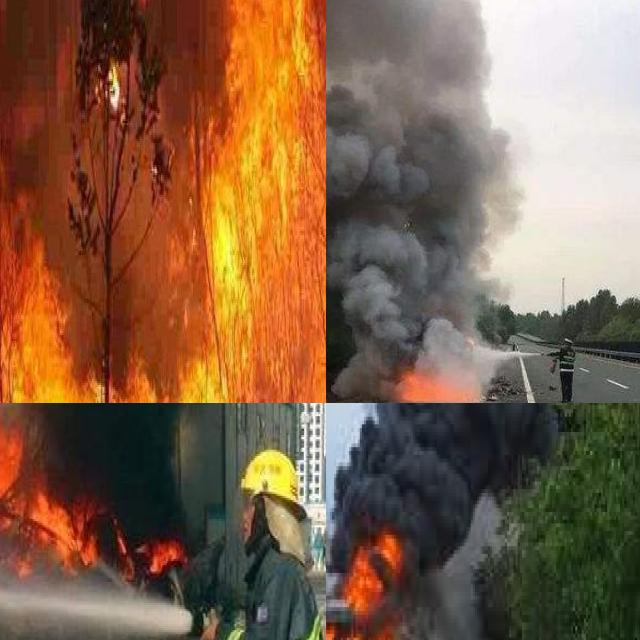fire: (0, 0, 326, 403), (0, 403, 189, 582), (326, 531, 440, 640), (400, 357, 504, 403)
smoke: (326, 0, 517, 329), (326, 403, 640, 565), (34, 403, 194, 563), (328, 333, 398, 400), (419, 569, 479, 640)
